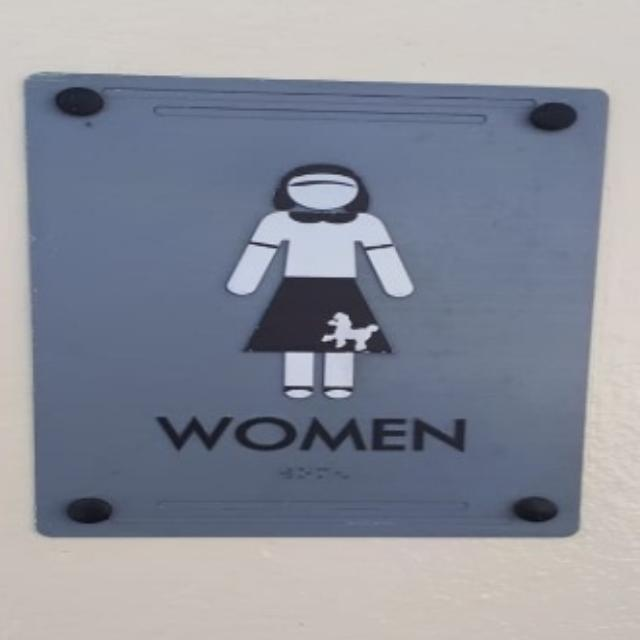womens_restroom: (25, 76, 603, 535)
